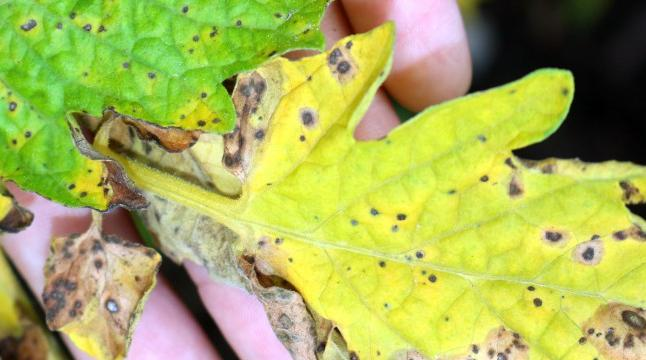Tomato Septoria leaf spot: (210, 61, 646, 360), (0, 0, 435, 201)
